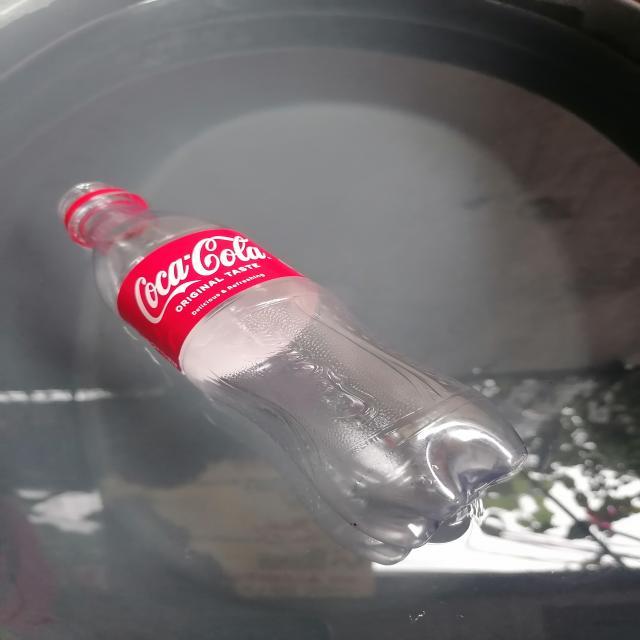Plastic Bottle: (59, 181, 527, 564)
